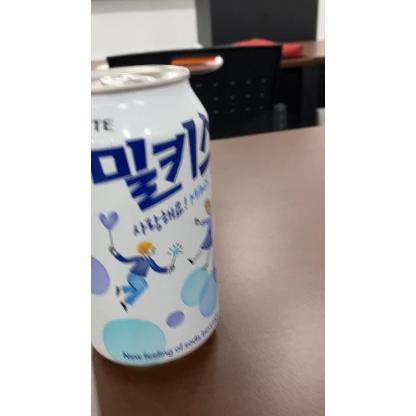Can: (90, 64, 214, 370)
